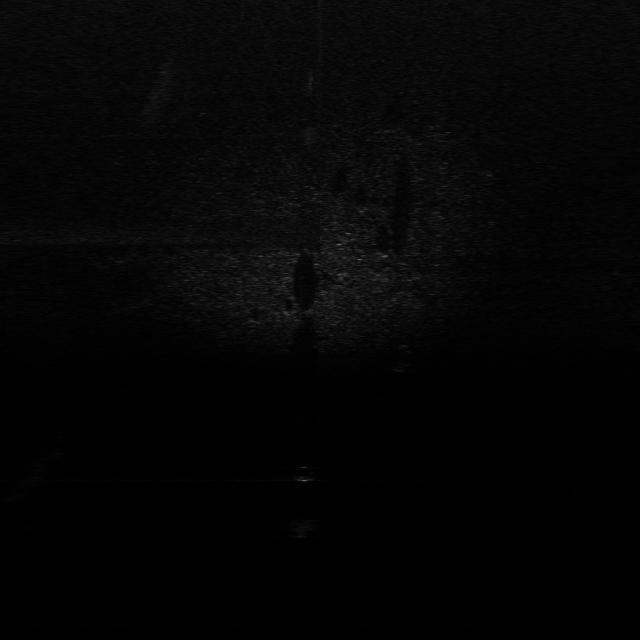ball: (288, 464, 320, 485)
square cage: (290, 517, 326, 540)
tyre: (386, 342, 422, 374)
